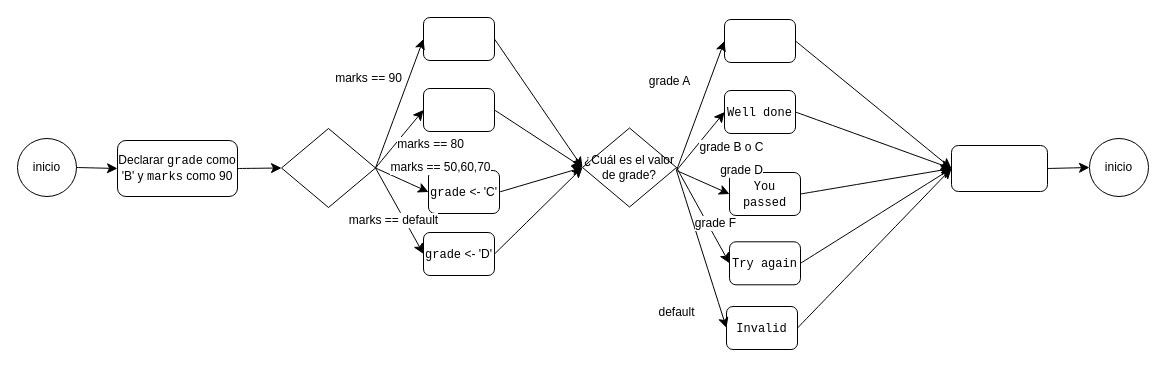
Some shapes in this 1166 by 367 pixel diagram are drawn without their labels. The shapes that lost their labels are listed below. From the top down, each one's centre as x and y in pixels, then its label:
point (458, 38): grade <- 'A'
point (760, 40): "Excellent"
point (458, 110): grade <- 'B'
point (328, 168): ¿Cuál es el valor de marks ?
point (999, 168): Imprimir 'Your grade is' + grade"
